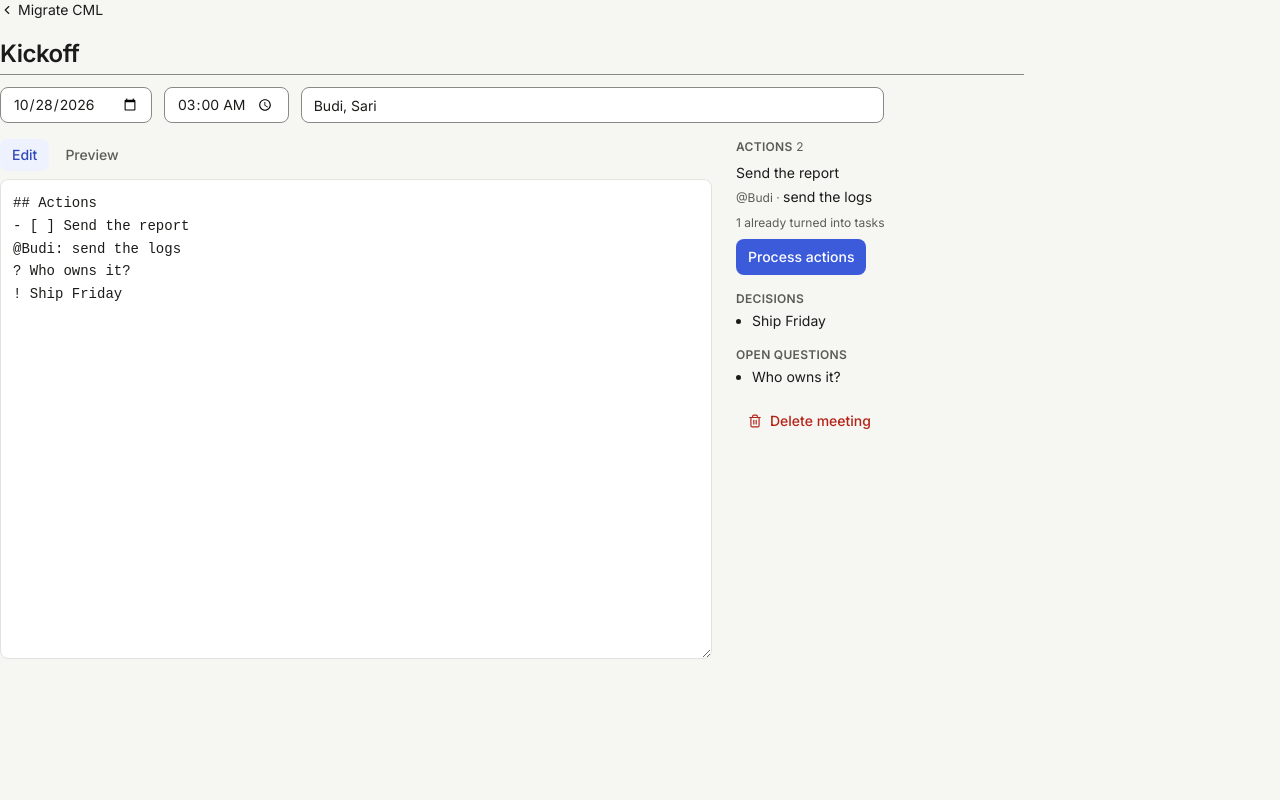
Test: MeetingPage › process actions › has the Create button off when every line is unticked
Expected: the text box named "Meeting notes" is shown, [0,179,712,659]
Click the button "Process actions".
click(801, 257)  # box [736,239,866,275]
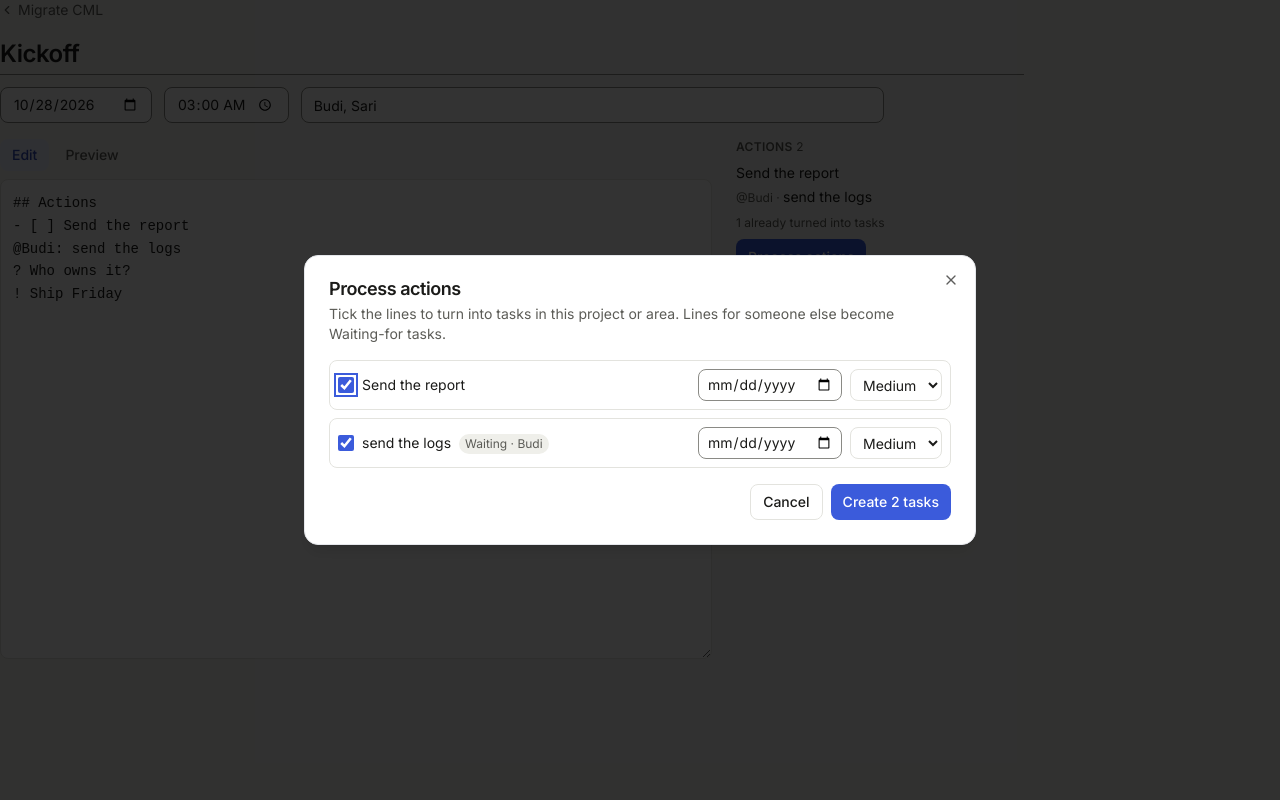
Click the checkbox named "Create task: Send the report".
click(346, 385)  # box [338,377,354,393]
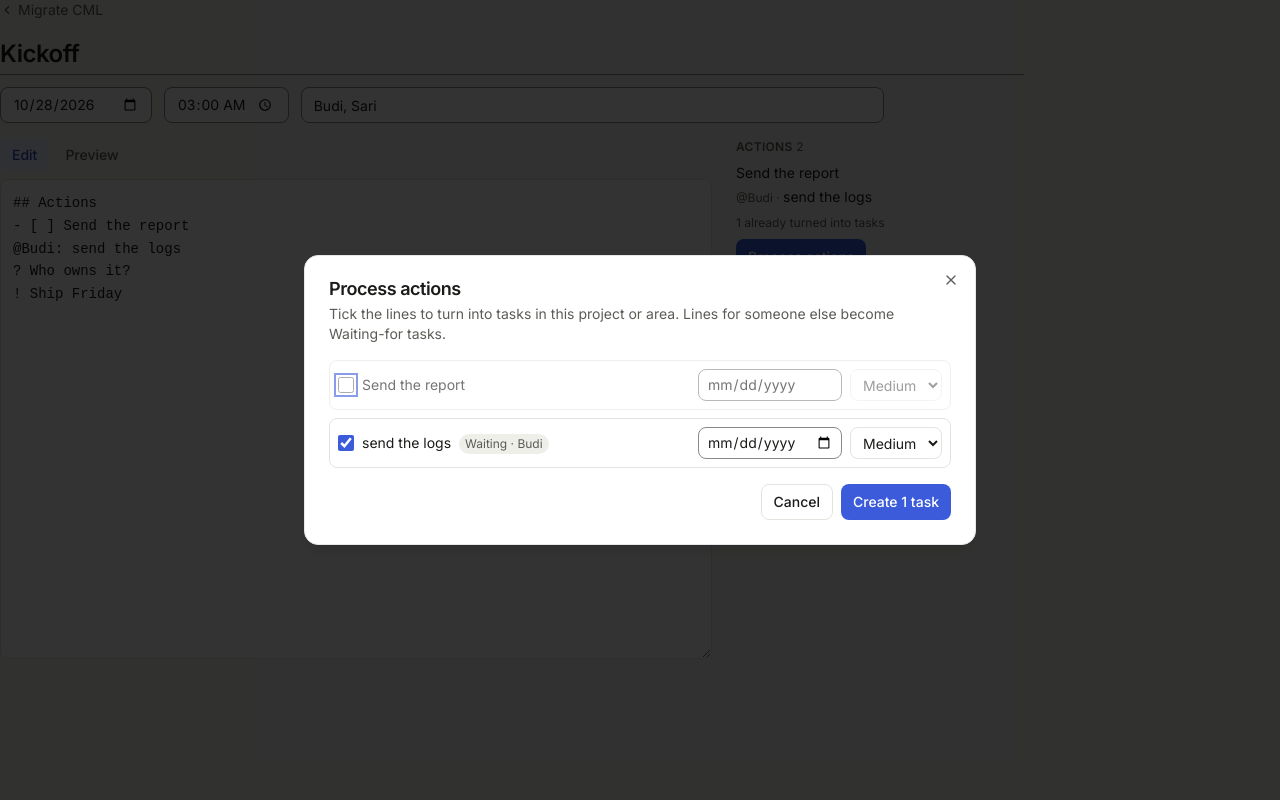
Click the checkbox named "Create task: send the logs".
click(346, 443)  # box [338,435,354,451]
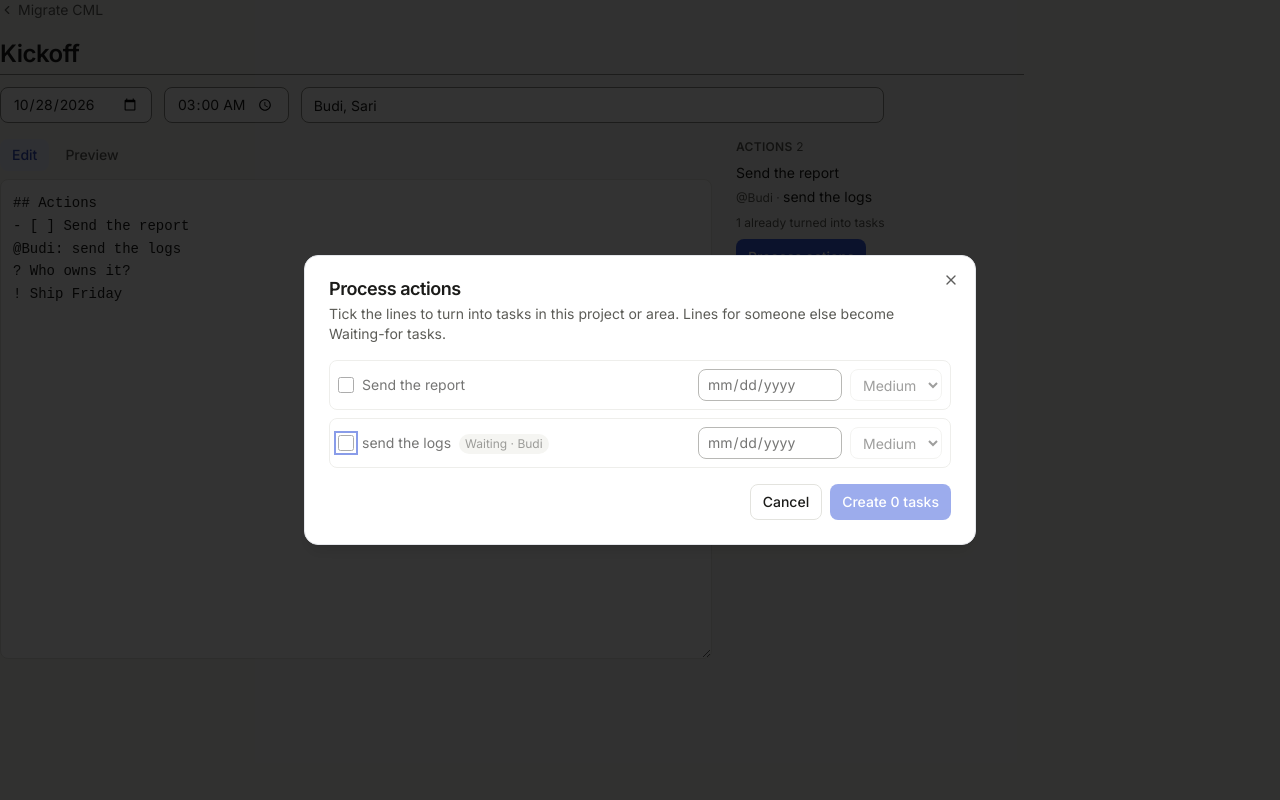
Result: the button "Create 0 tasks" is disabled at [830,484,951,520]
